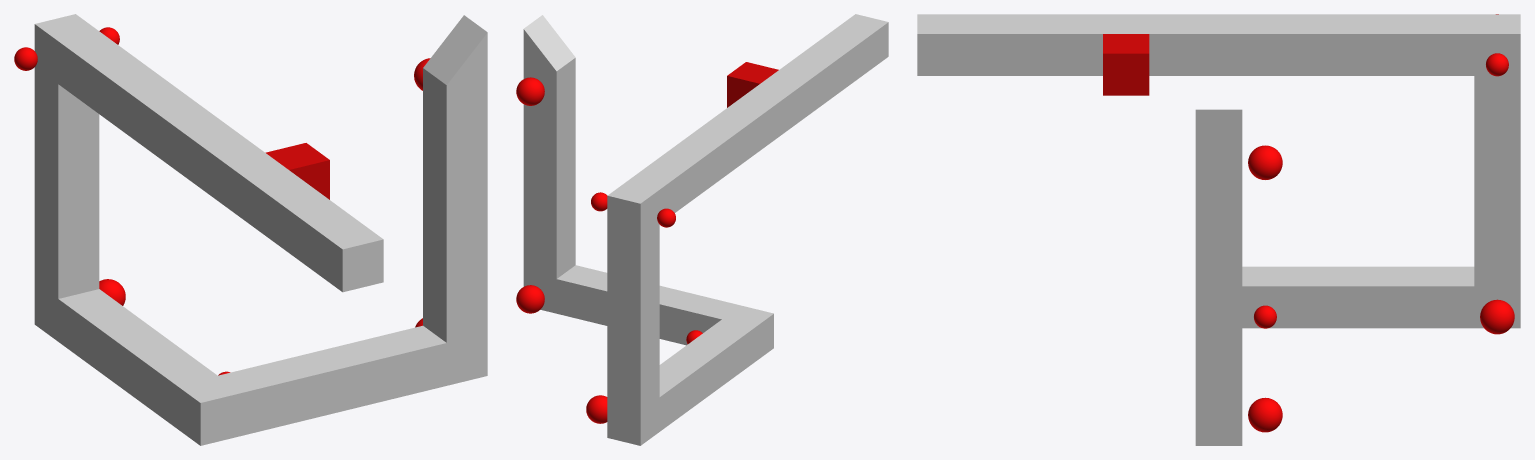
The model's file is stage3.glb.
3 renders of one model, left to right at view 1: azimuth 30°, elevation 25°; view 2: azimuth 150°, elevation 25°; view 3: azimuth 270°, elevation 25°, orthographic. The views are drawn at different scales.
Parts seen in each view (by area): view 1: c, c__24_, cube2, c__16_, c__17_, c__15_, c__14_, c__36_, c__32_, c__33_, c__35_, c__31_ (+27 smaller); view 2: c__12_, cube2, c__17_, c__33_, c__16_, c__32_, c__34_, c__14_, c__18_, c__13_, c__15_, c__31_ (+29 smaller); view 3: c__19_, c__1_, c__5_, c__11_, c__20_, c__21_, c__22_, corePart, c, c__2_, c__3_, c__6_ (+24 smaller).
Boxes of the visible parts, box(x1,y1,x2,y2) form: c: box(319, 222, 383, 292); c__24_: box(177, 375, 241, 445); cube2: box(423, 15, 487, 84); c__16_: box(34, 196, 99, 255); c__17_: box(34, 239, 99, 298); c__15_: box(34, 153, 99, 212); c__14_: box(34, 110, 99, 169); c__36_: box(423, 68, 487, 127); c__32_: box(423, 240, 487, 299); c__33_: box(423, 197, 487, 256); c__35_: box(423, 111, 487, 170); c__31_: box(423, 283, 487, 342); c__12_: box(607, 181, 659, 238); cube2: box(523, 15, 575, 71); c__17_: box(607, 363, 659, 411); c__33_: box(523, 161, 575, 209); c__16_: box(607, 328, 659, 376); c__32_: box(523, 196, 575, 244); c__34_: box(523, 127, 575, 175); c__14_: box(607, 259, 659, 307); c__18_: box(607, 397, 659, 445); c__13_: box(607, 224, 659, 272); c__15_: box(607, 294, 659, 341); c__31_: box(523, 231, 575, 278); c__19_: box(1427, 266, 1474, 328); c__1_: box(963, 14, 1010, 75); c__5_: box(1195, 14, 1242, 75); c__11_: box(1427, 14, 1474, 75); c__20_: box(1381, 266, 1427, 328); c__21_: box(1335, 266, 1381, 328); c__22_: box(1288, 266, 1334, 328); corePart: box(1103, 34, 1149, 95); c: box(917, 14, 963, 75); c__2_: box(1010, 14, 1056, 75); c__3_: box(1056, 14, 1102, 75); c__6_: box(1149, 14, 1195, 75).
Size of the model in its own units: 7.75 by 8 by 13.
